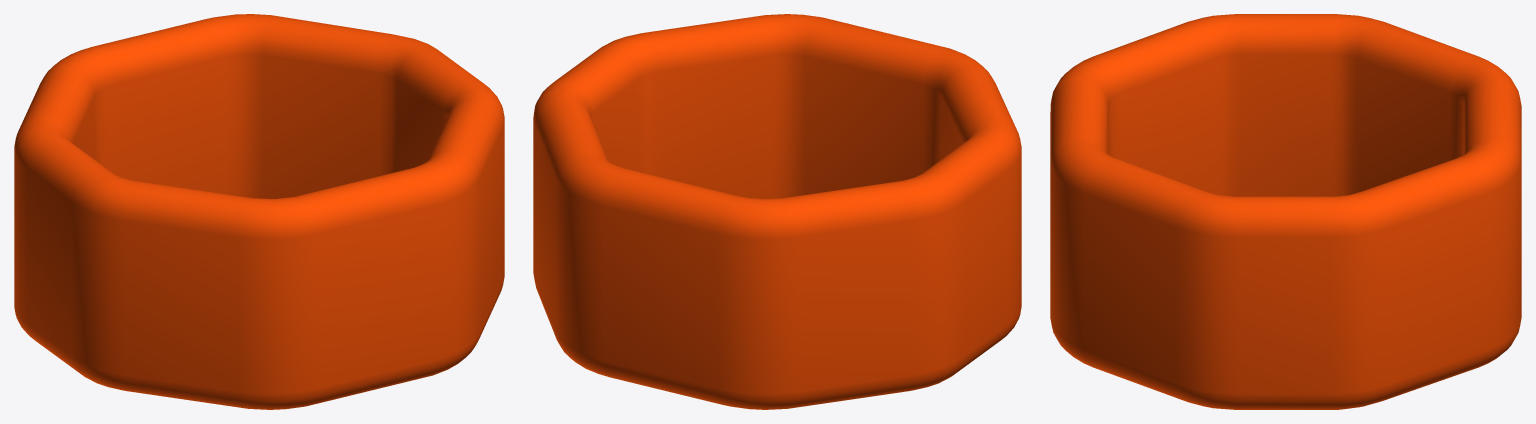
File: Particle-28.dae
3 renders of one model, left to right at view 1: azimuth 30°, elevation 25°; view 2: azimuth 150°, elevation 25°; view 3: azimuth 270°, elevation 25°, orthographic.
Parts seen in each view (by area): view 1: Particle; view 2: Particle; view 3: Particle.
Part boxes in pixels (<box>): Particle: <box>14,14,504,409</box>; Particle: <box>533,14,1021,409</box>; Particle: <box>1050,14,1521,409</box>.
Size of the model in its own units: 0.1279 by 0.06 by 0.123.
